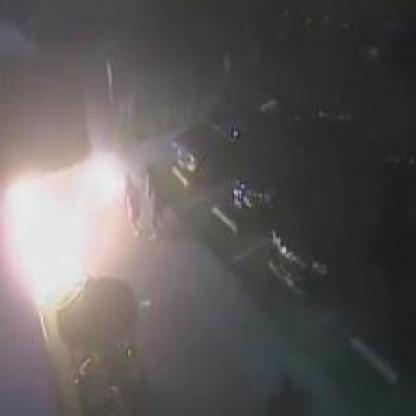fire: (2, 149, 130, 308)
